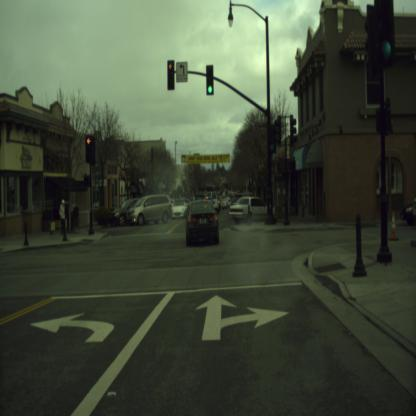Green: (206, 64, 214, 94)
RedLeft: (167, 60, 174, 89), (86, 135, 92, 161)
off: (374, 3, 394, 60), (268, 128, 276, 152)
